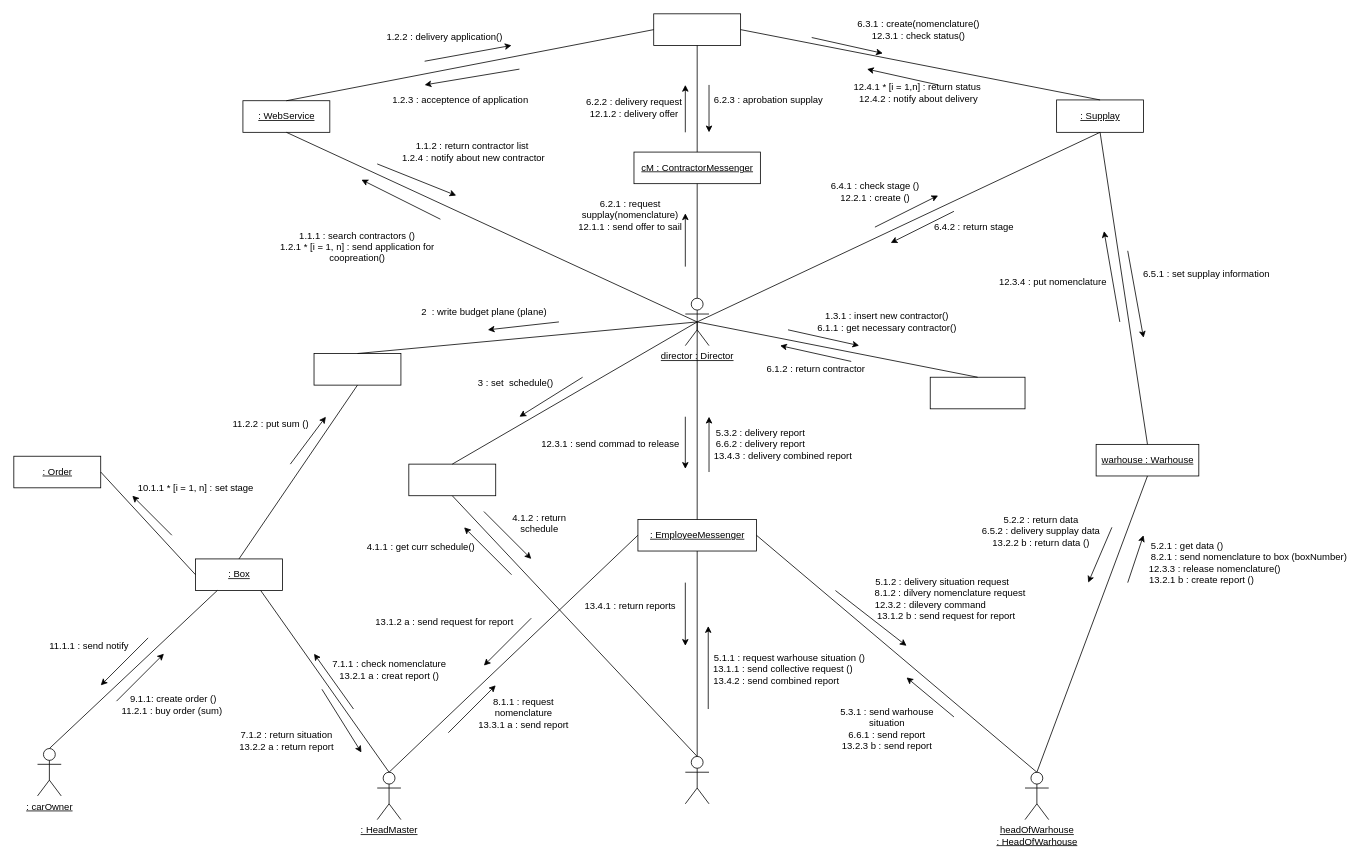
Some shapes in this 1367 by 862 pixel diagram are drawn without their labels. Here are the shapes that lost their labels. From the top down, the box of each, then its label:
(653, 13, 741, 45): : Contractor
(313, 353, 401, 385): budget : Budget
(929, 376, 1025, 409): cB : ContractroBase
(408, 463, 496, 496): sC : Schedule
(685, 756, 709, 804): manager : Manager
